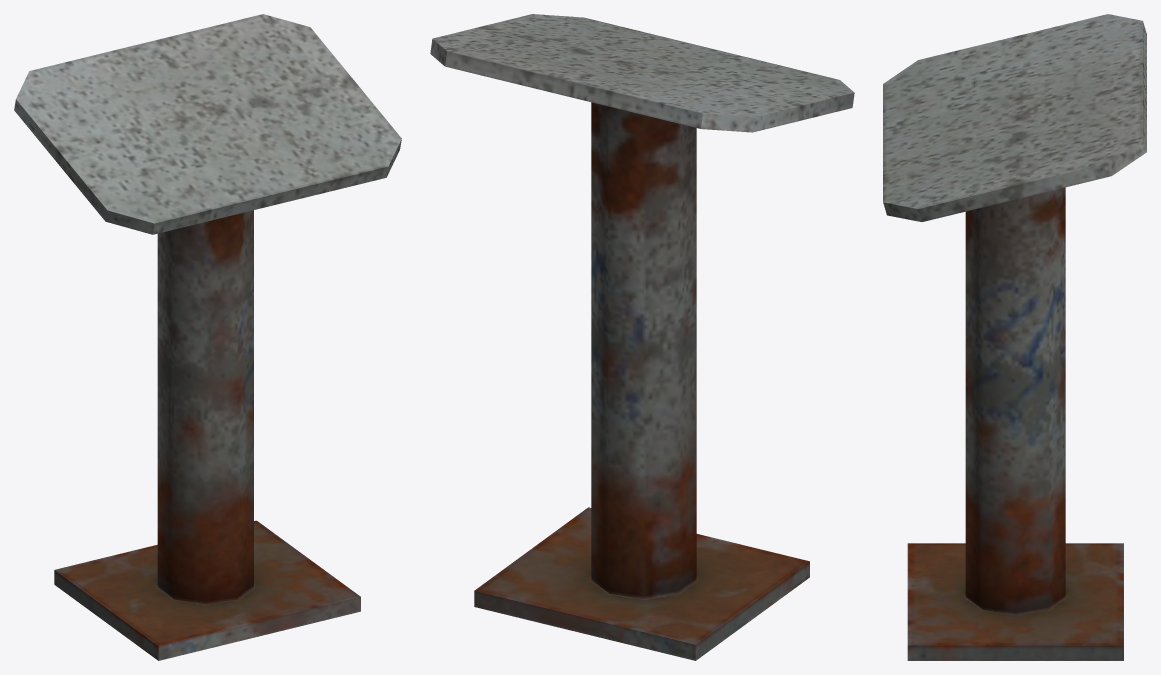
The model's file is StageProp.FBX.
The picture shows the model from 3 angles, left to right: view 1: azimuth 30°, elevation 25°; view 2: azimuth 150°, elevation 25°; view 3: azimuth 270°, elevation 25°; orthographic projection. The views are drawn at different scales.
Visible parts, largest first — view 1: StageProp; view 2: StageProp; view 3: StageProp.
Boxes of the visible parts, <box> form: StageProp: <box>14,14,401,660</box>; StageProp: <box>430,14,854,660</box>; StageProp: <box>883,14,1146,660</box>.
Bounding box in the file's own units: 68.8 × 114 × 51.44.
